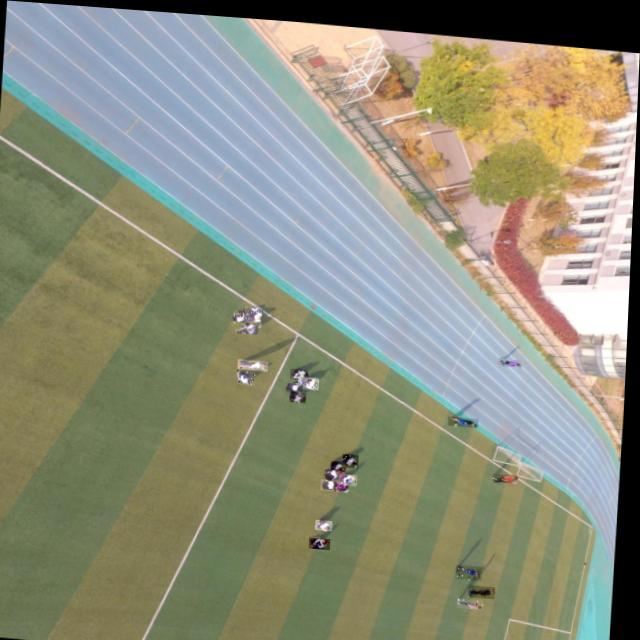Person: (459, 557, 486, 572), (239, 354, 270, 367), (472, 577, 499, 591), (246, 302, 263, 323), (236, 316, 259, 331), (450, 409, 481, 420), (461, 590, 487, 602), (300, 371, 321, 384), (239, 366, 257, 381), (312, 532, 334, 544), (496, 465, 521, 475), (326, 463, 345, 475), (323, 473, 342, 485), (345, 448, 361, 462), (234, 307, 251, 320), (342, 468, 360, 480), (500, 350, 524, 359), (318, 514, 336, 525), (292, 364, 310, 375), (333, 455, 349, 466), (336, 474, 352, 485), (292, 387, 308, 398), (289, 378, 304, 389)
